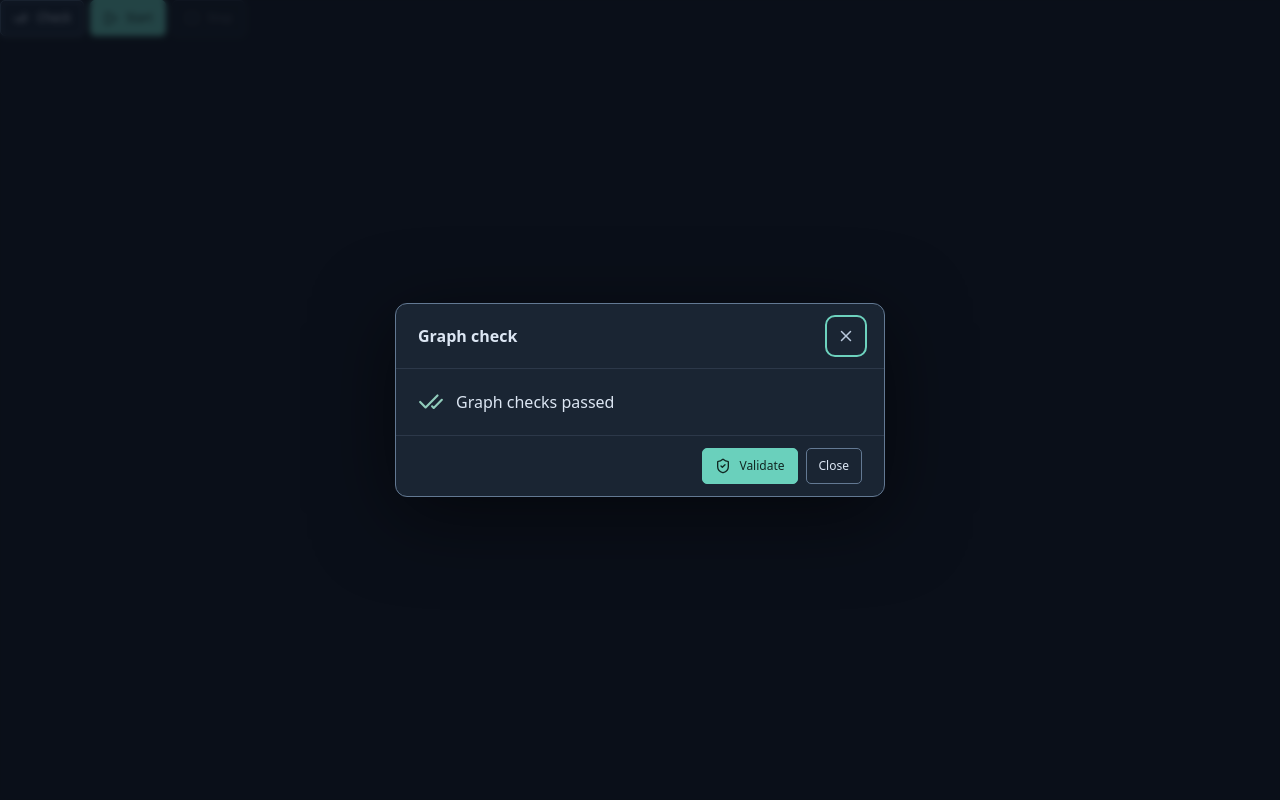
it: ignores a validation reply belonging to the previous graph
Click the button "Validate".
click(750, 466)  # box [702, 448, 798, 484]
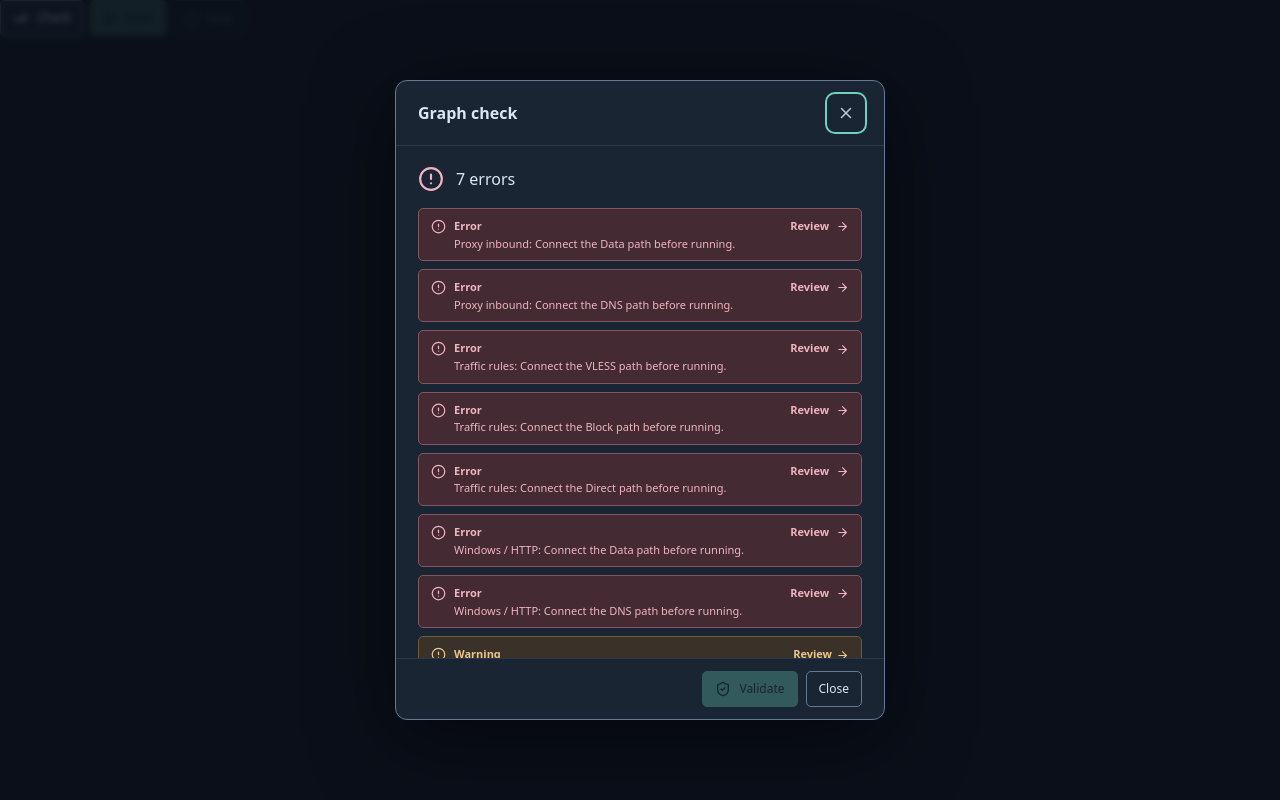
Check: the button "Validate" is disabled, box [702, 671, 798, 707]
